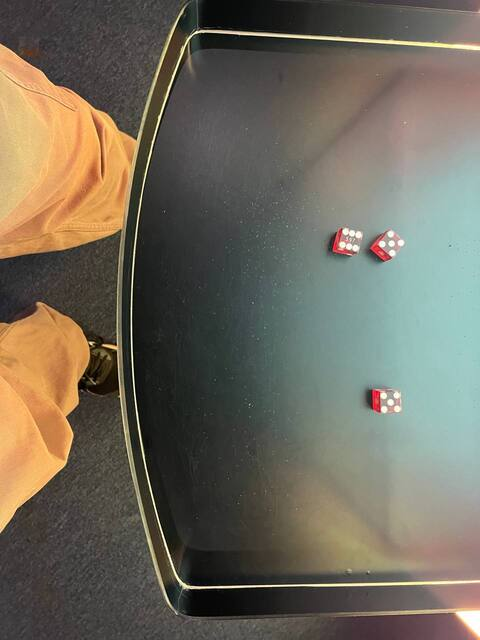five: (372, 227, 408, 261), (375, 386, 405, 416)
six: (333, 222, 366, 259)
